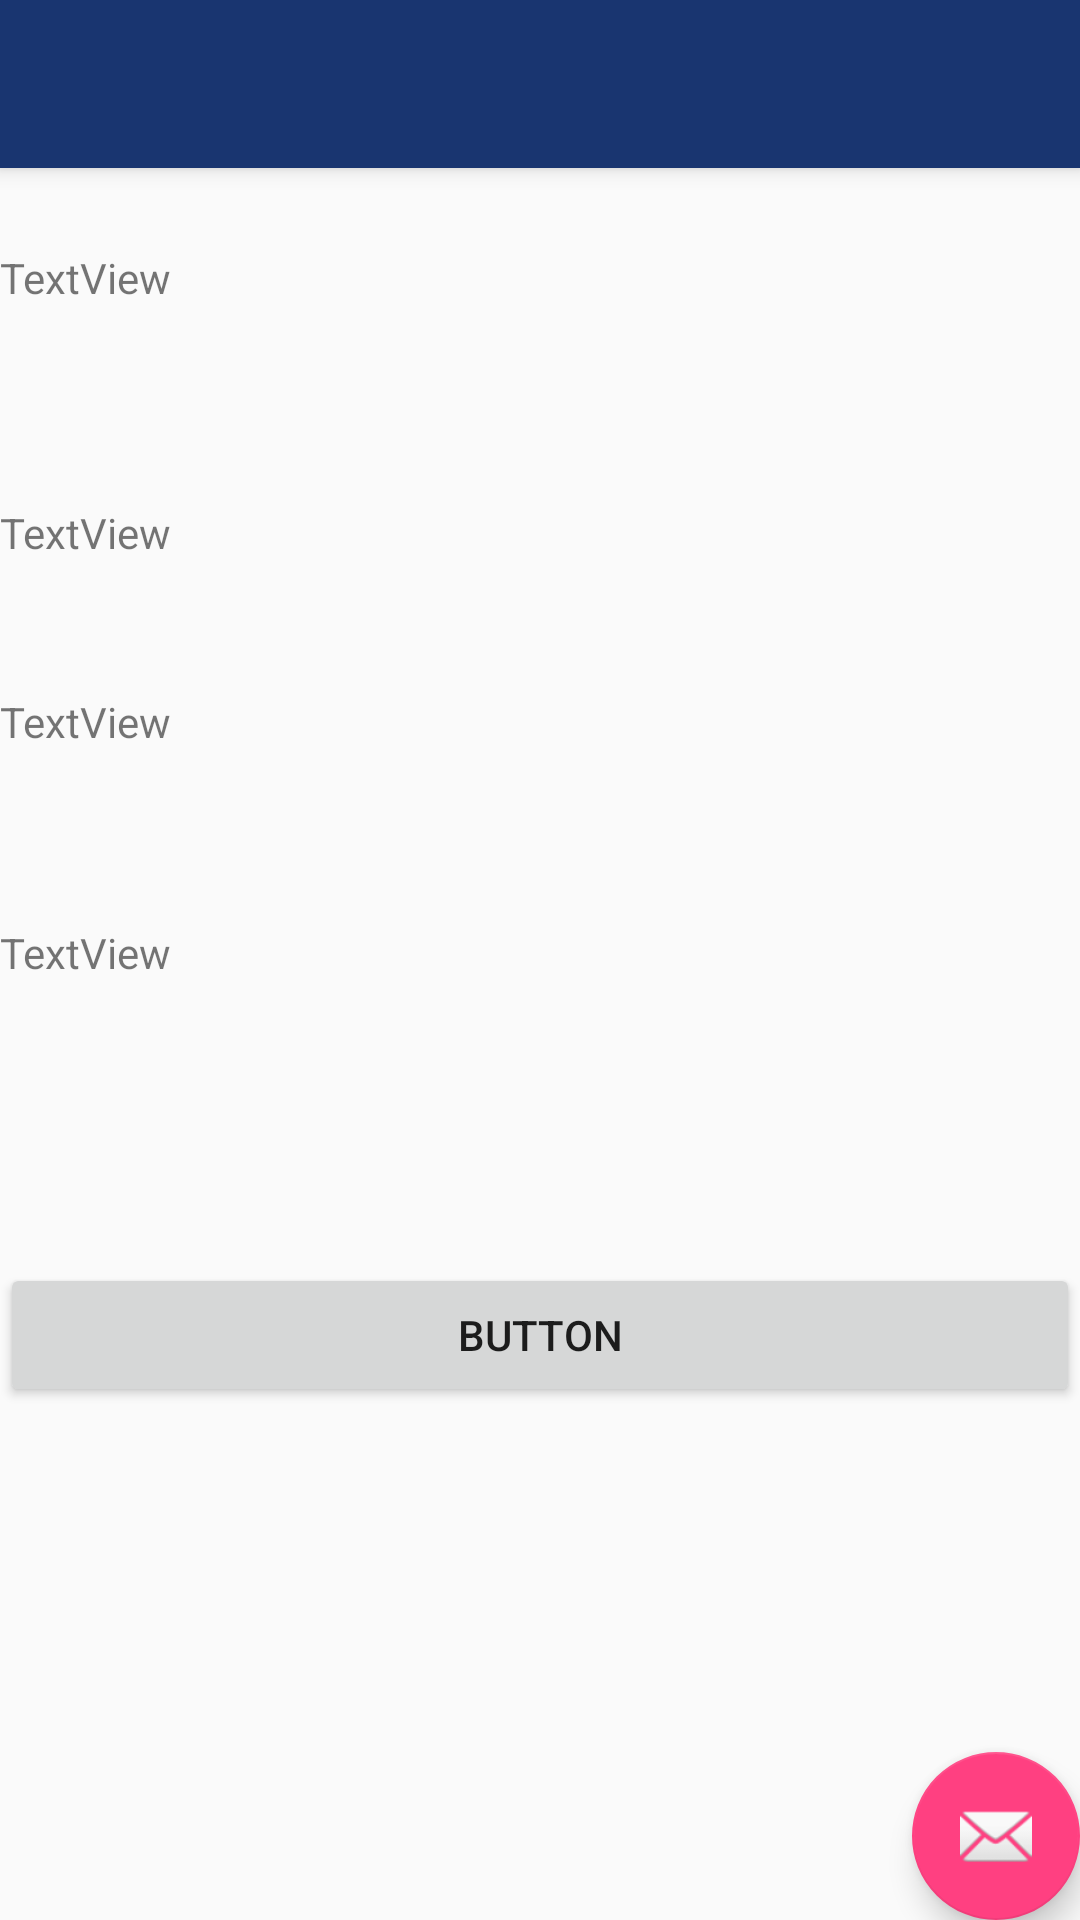

Screen size 1080×1920. Icon name, then its center in pixels as (x=x, y=y):
email: (x=996, y=1836)
